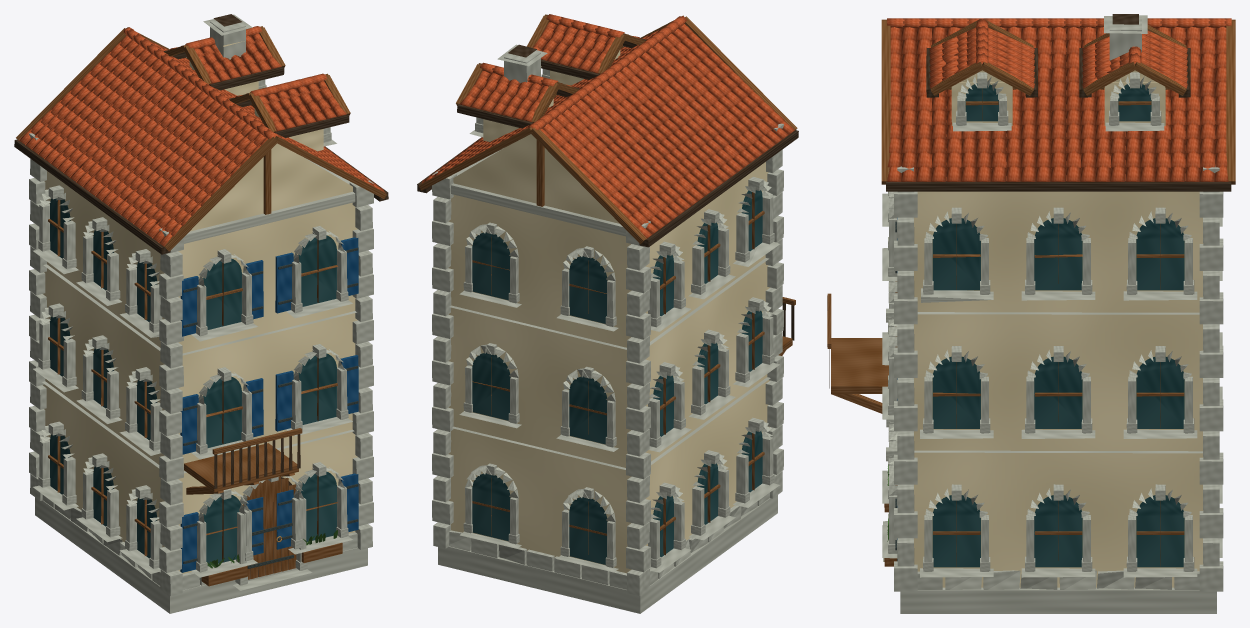
File: townhouse_b.glb
The picture shows the model from 3 angles, left to right: view 1: azimuth 30°, elevation 25°; view 2: azimuth 150°, elevation 25°; view 3: azimuth 270°, elevation 25°; orthographic projection. The views are drawn at different scales.
Parts seen in each view (by area): view 1: townhouse_b_Structure, townhouse_b_Roof, townhouse_b_Detail, townhouse_b_Joinery, townhouse_b_Glazing, townhouse_b_Metalwork; view 2: townhouse_b_Structure, townhouse_b_Roof, townhouse_b_Detail, townhouse_b_Glazing, townhouse_b_Joinery; view 3: townhouse_b_Structure, townhouse_b_Roof, townhouse_b_Glazing, townhouse_b_Detail, townhouse_b_Joinery.
Boxes of the visible parts, x1,y1,x2,y2 form: townhouse_b_Structure: (29, 14, 373, 613); townhouse_b_Roof: (18, 26, 384, 246); townhouse_b_Detail: (33, 79, 352, 590); townhouse_b_Joinery: (14, 26, 388, 586); townhouse_b_Glazing: (50, 198, 336, 566); townhouse_b_Metalwork: (183, 247, 358, 568); townhouse_b_Structure: (432, 44, 783, 613); townhouse_b_Roof: (421, 14, 794, 239); townhouse_b_Detail: (459, 69, 779, 572); townhouse_b_Glazing: (472, 190, 762, 564); townhouse_b_Joinery: (417, 14, 798, 555); townhouse_b_Structure: (894, 14, 1223, 613); townhouse_b_Roof: (887, 18, 1231, 181); townhouse_b_Glazing: (932, 83, 1184, 567); townhouse_b_Detail: (882, 72, 1222, 577); townhouse_b_Joinery: (827, 19, 1235, 566).
Bounding box in the file's own units: 5.73 × 11.74 × 7.61.
4 materials, 4 textured.
